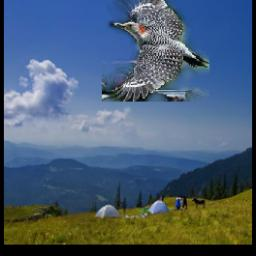Woodpecker: (101, 0, 208, 103)
